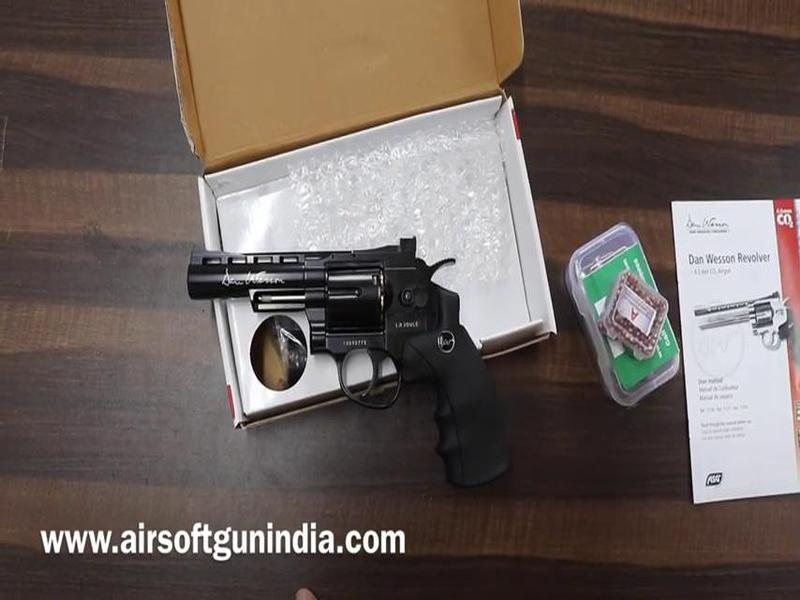Revolver: (185, 235, 521, 443)
